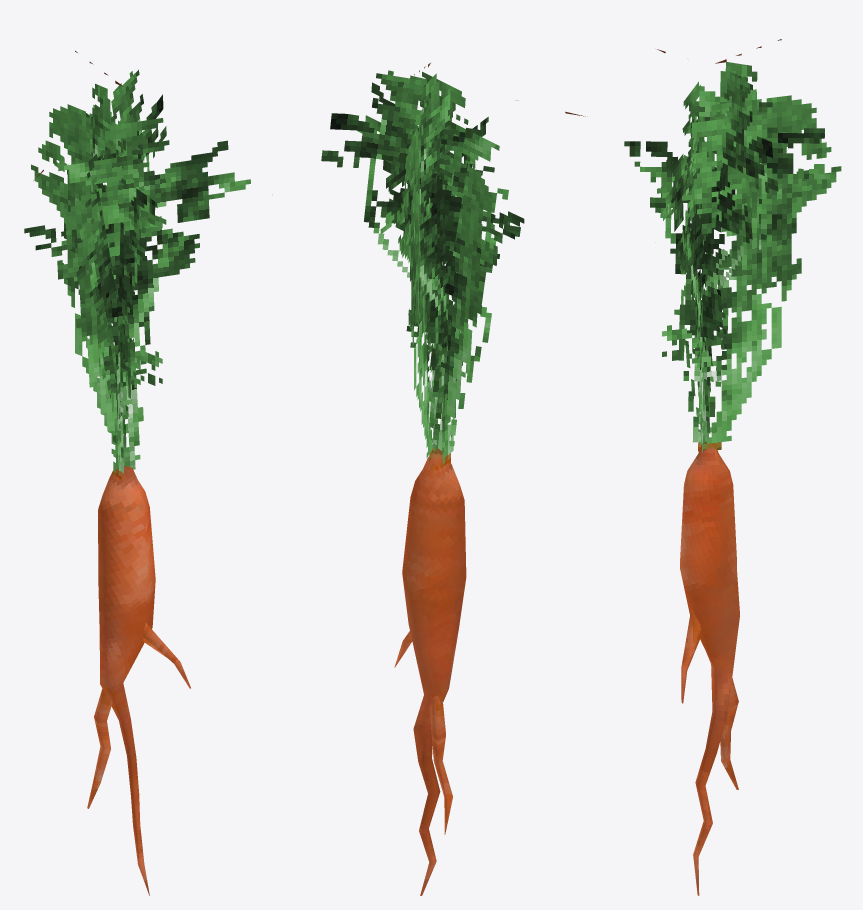
File: carrot.glb
The picture shows the model from 3 angles, left to right: view 1: azimuth 30°, elevation 25°; view 2: azimuth 150°, elevation 25°; view 3: azimuth 270°, elevation 25°; orthographic projection. The views are drawn at different scales.
Visible parts, largest first — view 1: Cube; view 2: Cube; view 3: Cube.
Boxes of the visible parts, box(x1,y1,x2,y2) form: Cube: box(24, 51, 250, 895); Cube: box(321, 63, 585, 895); Cube: box(624, 39, 841, 895).
Bounding box in the file's own units: 2.17 × 6.95 × 1.71.
1 material, 1 textured.
